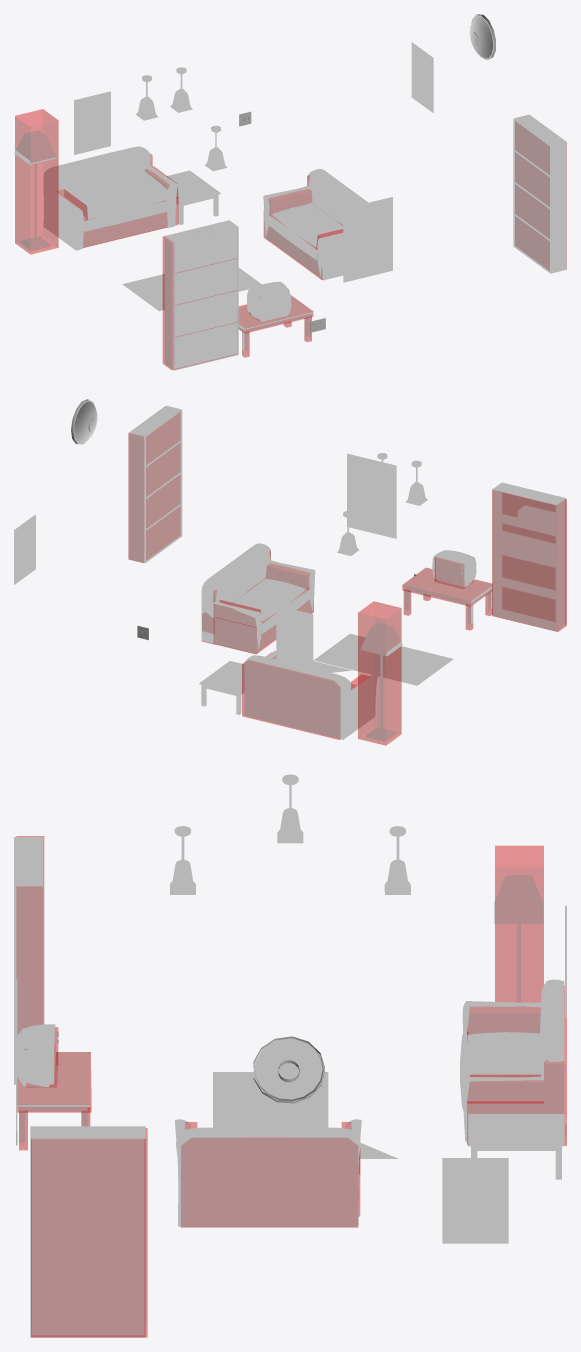
Rendered from Building_08_Int_Props.dae.
3 renders of one model, top to bottom at view 1: azimuth 30°, elevation 25°; view 2: azimuth 150°, elevation 25°; view 3: azimuth 270°, elevation 25°, orthographic. The views are drawn at different scales.
Visible parts, largest first — view 1: Int_001_props400, colmesh-2; view 2: Int_001_props400, colmesh-2; view 3: Int_001_props400, colmesh-2.
Part boxes in pixels (<box>): Int_001_props400: <box>14,14,566,370</box>; colmesh-2: <box>15,109,549,369</box>; Int_001_props400: <box>14,399,565,741</box>; colmesh-2: <box>128,412,566,745</box>; Int_001_props400: <box>14,774,566,1337</box>; colmesh-2: <box>16,836,566,1337</box>.
Size of the model in its own units: 81.09 by 41.99 by 61.93.
